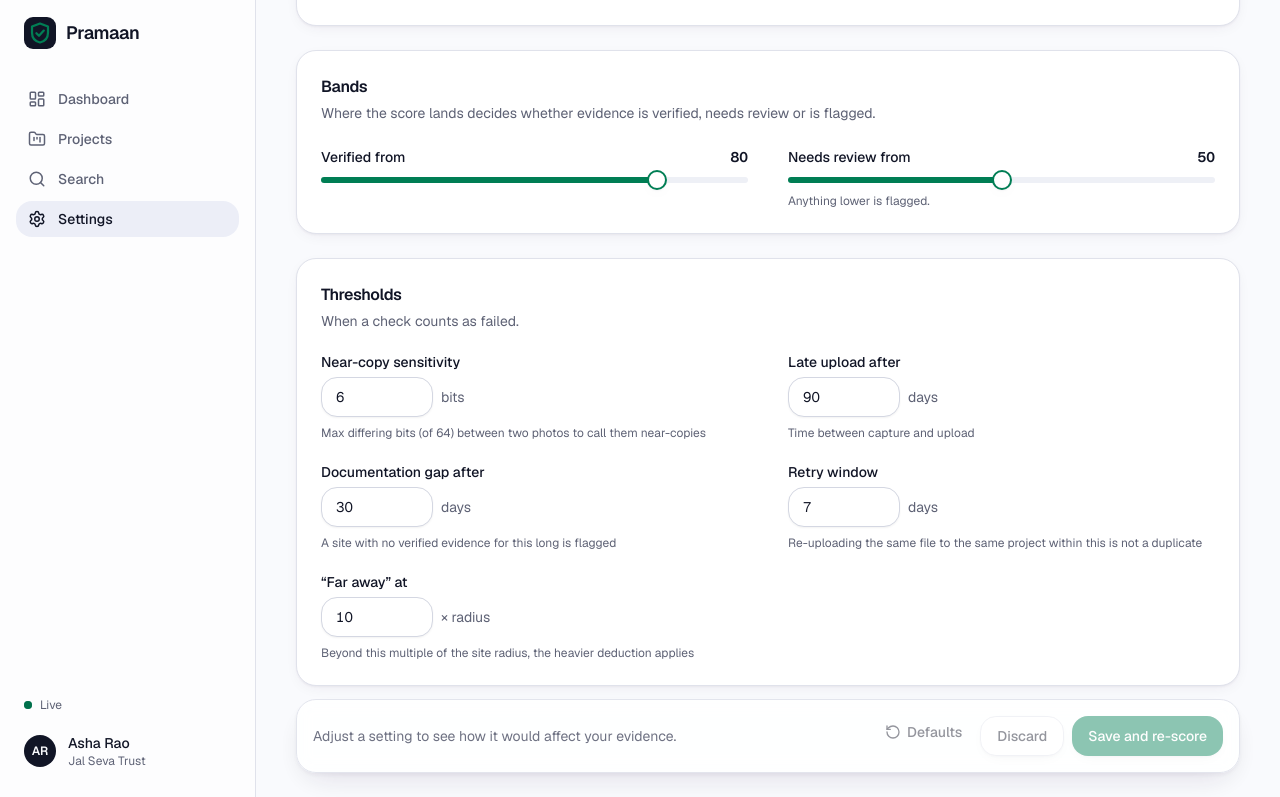
Scenario: settings › previews how many assets would change band before saving
The image size is (1280, 797).
(page scrolled)
Replace the text in the number field labelled "Late upload after" with "30" at (844, 397), box [788,377,900,417]
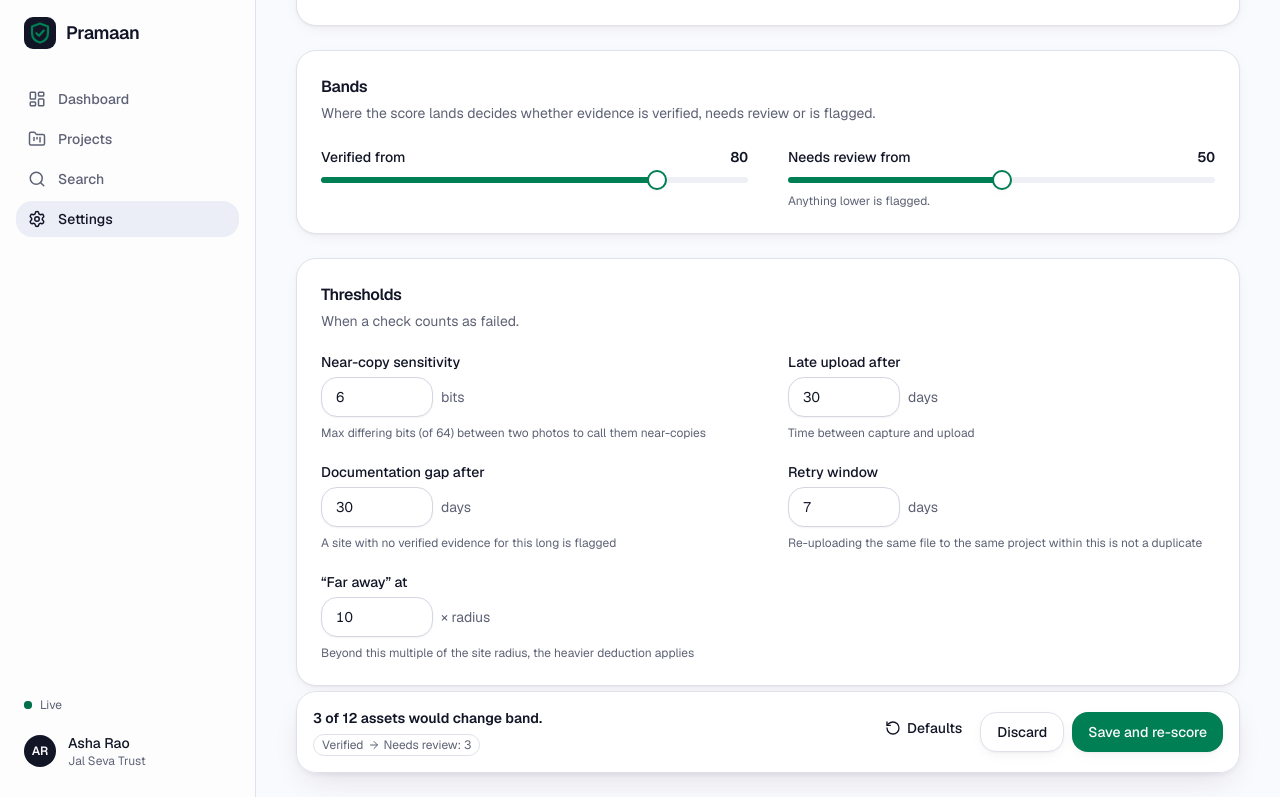
Check: the text "3 of 12 assets would change band." is shown, box [313,708,542,728]
Check: the list item "Verified Needs review: 3" is shown, box [313,734,480,756]
